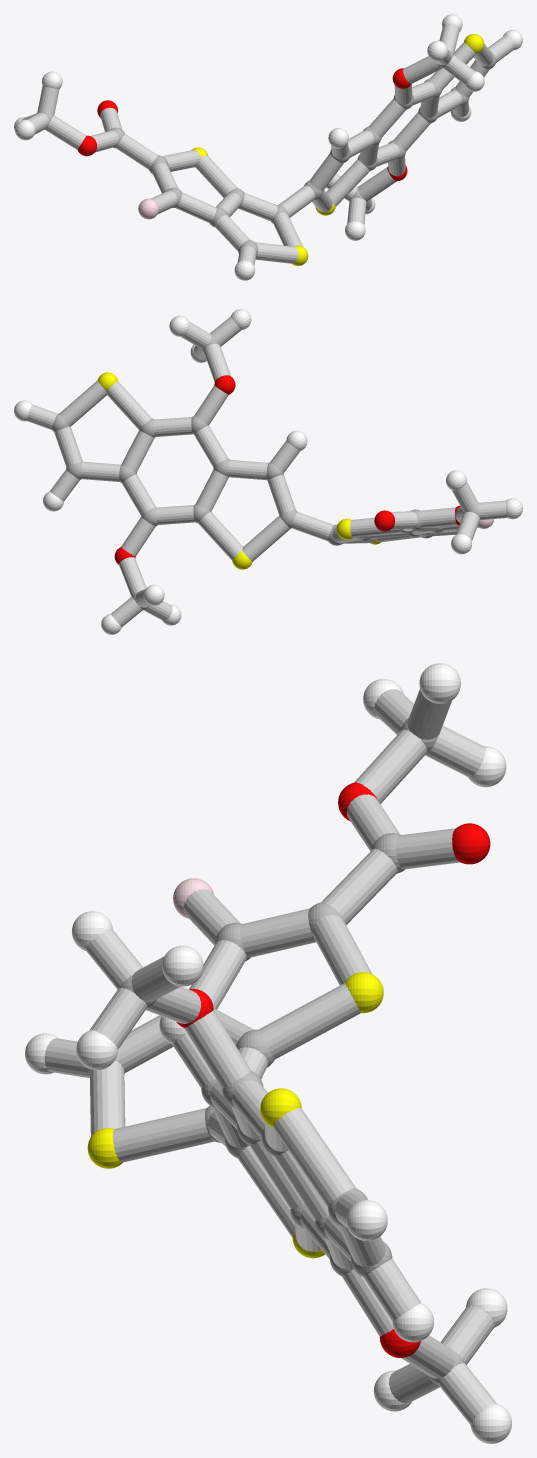
The model's file is Dimethoxy_Benzodithiophene_Phi_25_Theta_270_Methylcarbonyl_3_Fluoro_Thienothiophene.glb.
3 views of the same model, one above another, from view 1: azimuth 30°, elevation 25°; view 2: azimuth 150°, elevation 25°; view 3: azimuth 270°, elevation 25° (orthographic). The views are drawn at different scales.
Parts seen in each view (by area): view 1: grp15205, grp8689, grp1, grp13395, grp7241, grp14843; view 2: grp15205, grp8689, grp1, grp13395, grp7241; view 3: grp15205, grp8689, grp1, grp7241, grp13395.
Part boxes in pixels (x1,y1,x2,y2): grp15205: (21,25,514,265); grp8689: (14,14,522,280); grp1: (36,50,496,256); grp13395: (77,68,411,181); grp7241: (191,34,484,265); grp14843: (138,198,158,219); grp15205: (27,316,507,627); grp8689: (14,309,522,634); grp1: (52,336,479,609); grp13395: (114,375,460,564); grp7241: (97,372,380,569); grp15205: (44,689,496,1424); grp8689: (25,663,511,1443); grp1: (87,718,465,1384); grp7241: (87,972,383,1258); grp13395: (176,782,490,1357).
Bounding box in the file's own units: 16.71 × 8.06 × 7.04.
